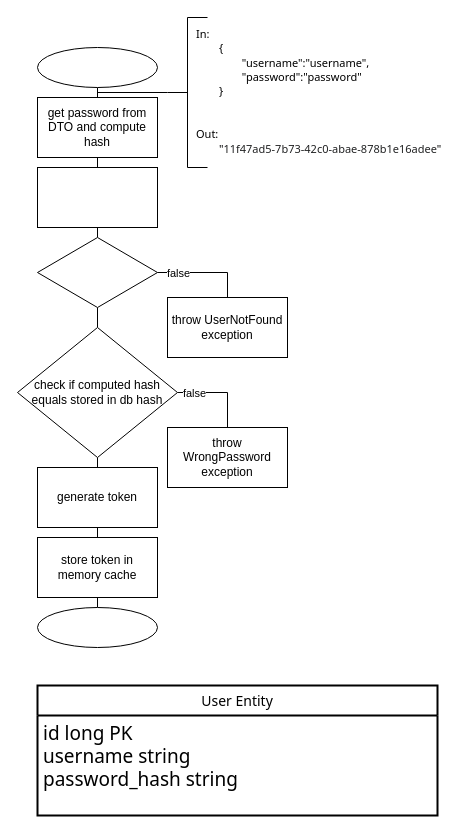
Some shapes in this 475 by 834 pixel diagram are drawn without their labels. Here are the shapes that lost their labels. From the top down, the centre of each, then its label:
point 97,67: SignIn(requstDTO)
point 97,197: get user from db
point 97,272: user exist?
point 97,627: return token
